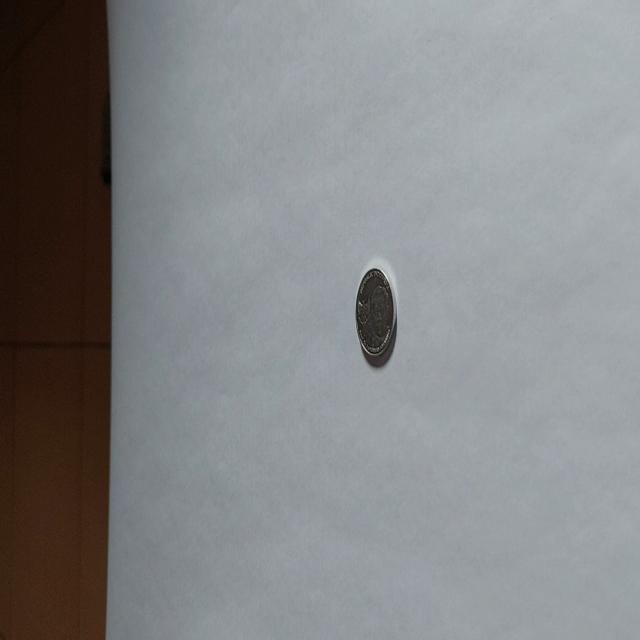seratus rupiah: (354, 266, 397, 366)
